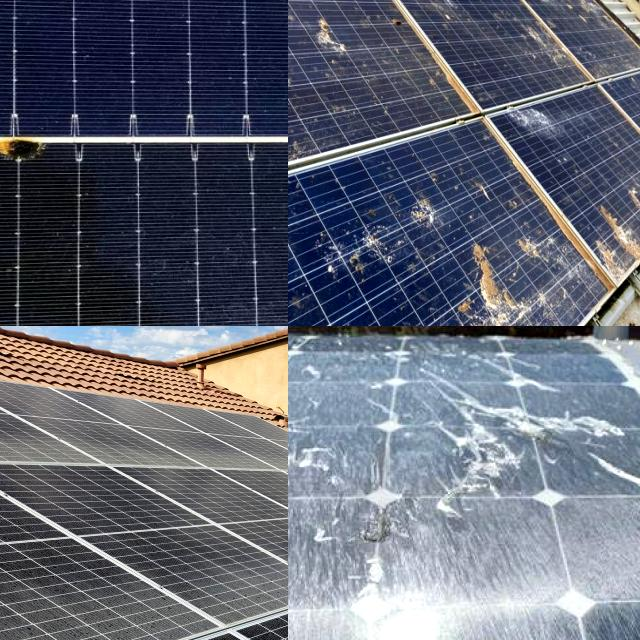bird: (400, 378, 627, 518), (458, 244, 525, 326), (583, 197, 640, 272), (307, 0, 361, 74), (504, 99, 563, 145), (416, 0, 472, 42), (288, 44, 323, 111), (288, 455, 336, 491), (288, 84, 311, 157), (408, 178, 430, 250), (288, 119, 323, 161), (288, 0, 323, 34), (389, 0, 401, 51), (288, 413, 291, 417)
dust: (0, 560, 222, 640)
shadow: (0, 122, 89, 183)
